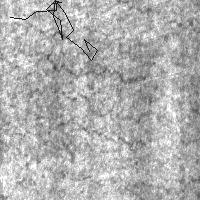crazing: (37, 89, 152, 149), (45, 29, 148, 83), (10, 0, 97, 60)
